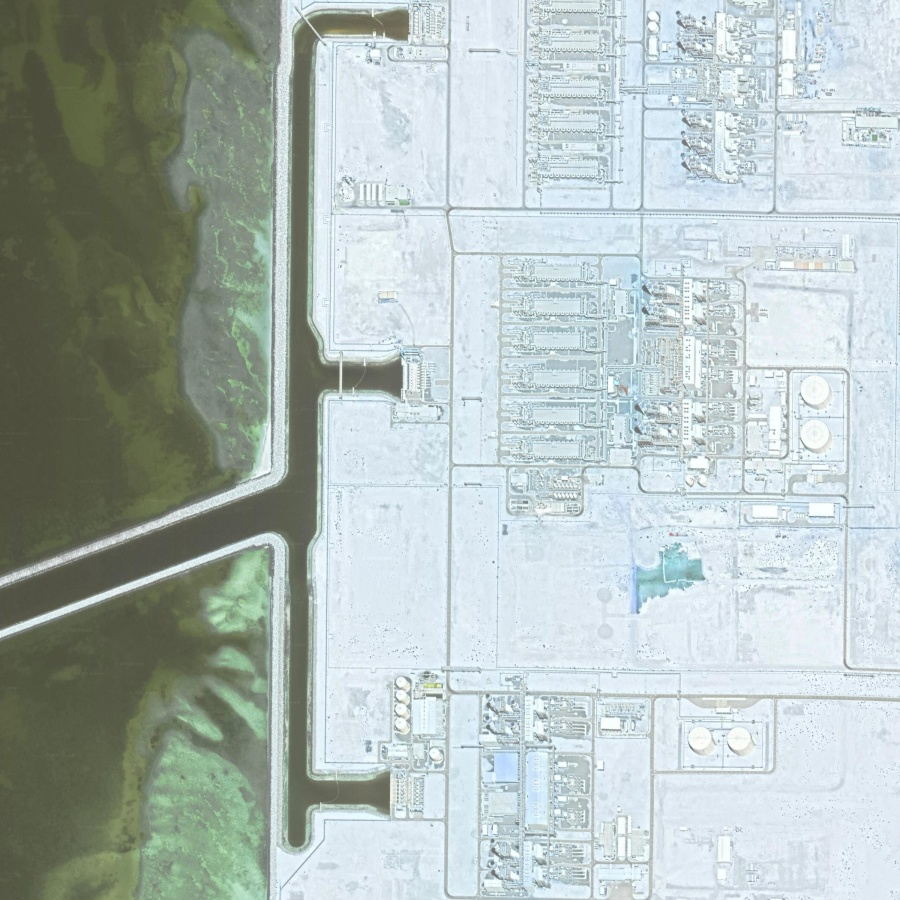PowerPlant: (484, 249, 846, 529)
